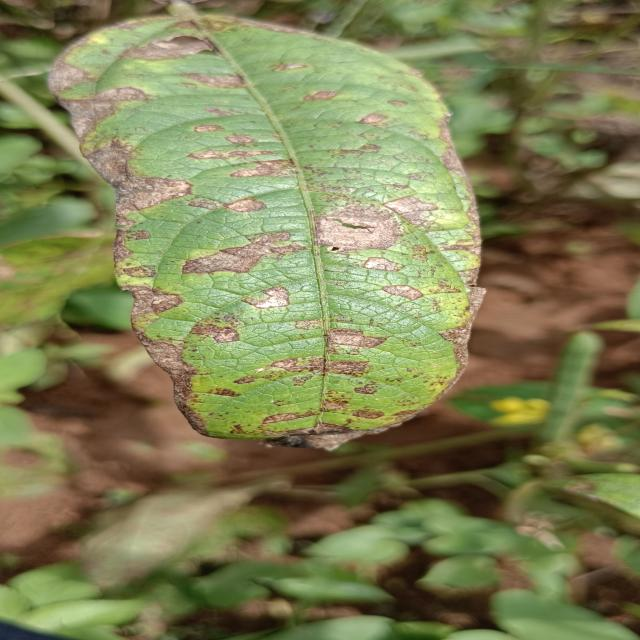Black gram_leaf spot: (49, 16, 481, 447)
